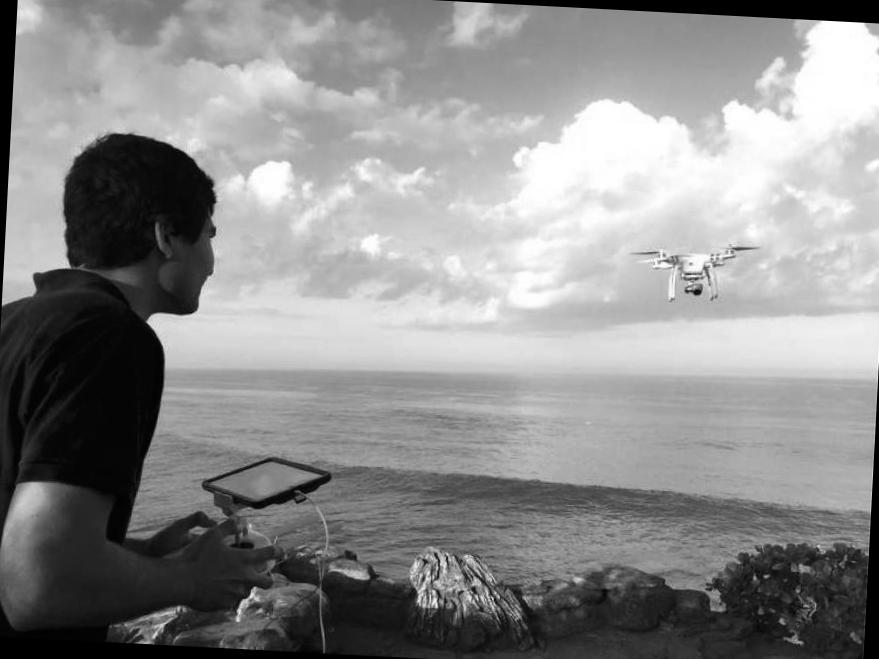drone: (625, 233, 764, 305)
